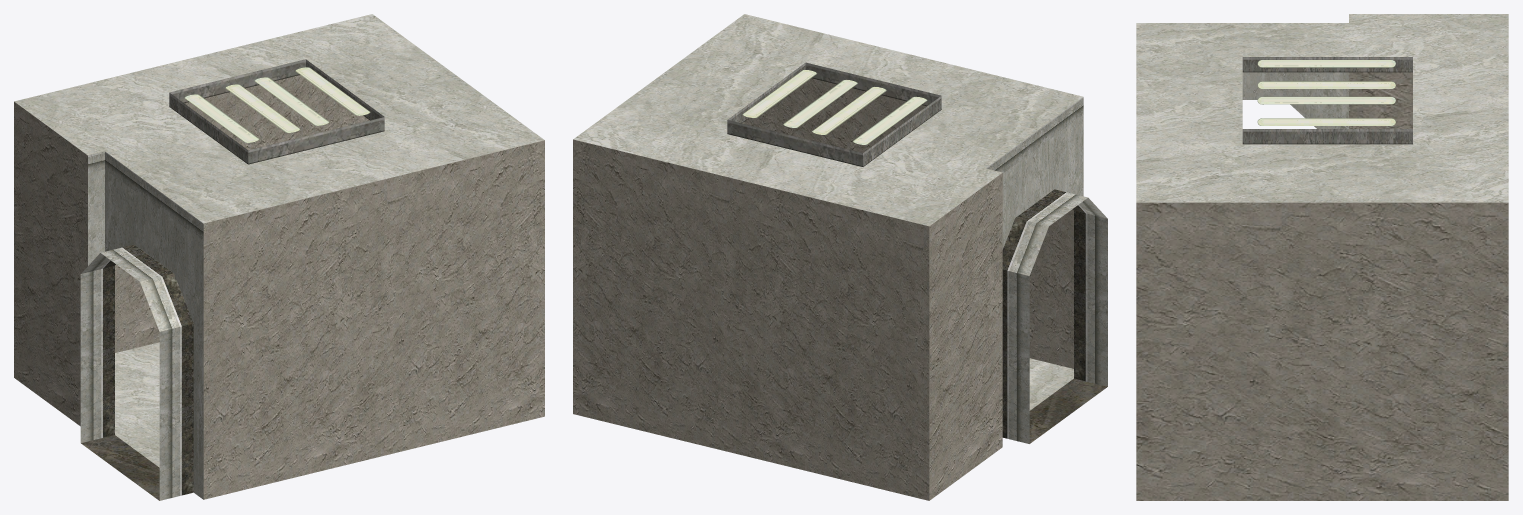
File: thm_nboo_assoc_hall_civ_s01_r7_closeta_mesh_closet_a.fbx
3 renders of one model, left to right at view 1: azimuth 30°, elevation 25°; view 2: azimuth 150°, elevation 25°; view 3: azimuth 270°, elevation 25°, orthographic. The views are drawn at different scales.
Visible parts, largest first — view 1: mesh_node; view 2: mesh_node; view 3: mesh_node.
Part boxes in pixels (x1,y1,x2,y2): mesh_node: [14, 14, 544, 500]; mesh_node: [573, 14, 1107, 500]; mesh_node: [1136, 14, 1508, 500].
Bounding box in the file's own units: 5.5 × 4.07 × 4.38.
